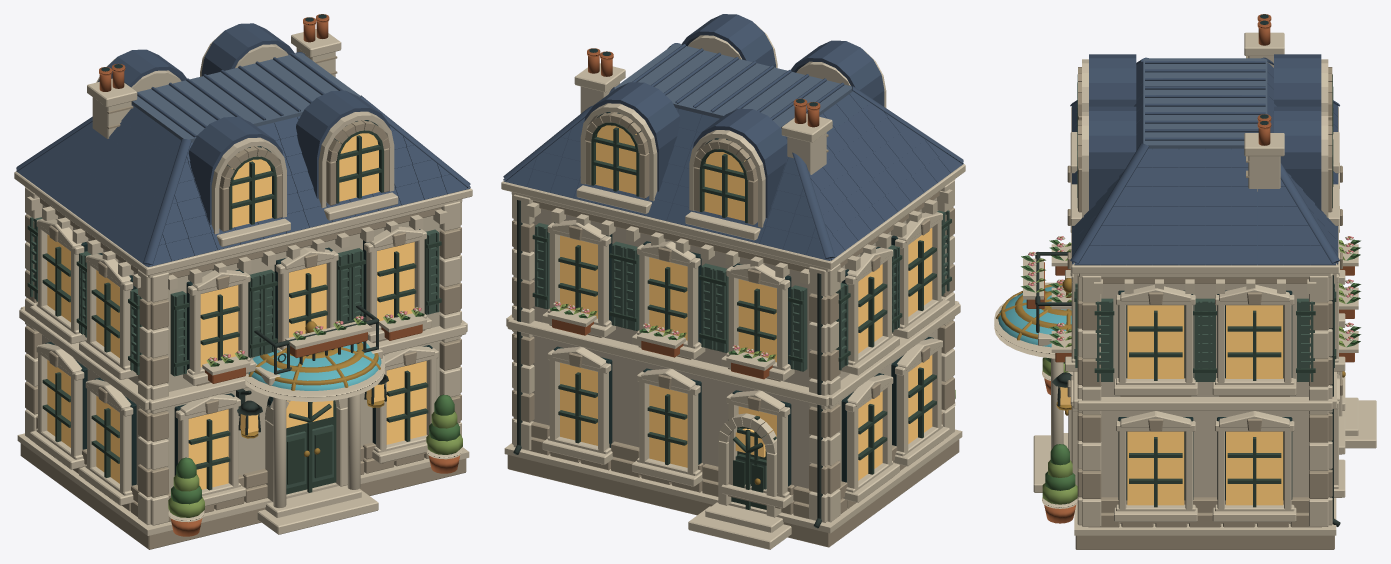
3 views of the same model, side by side, from view 1: azimuth 30°, elevation 25°; view 2: azimuth 150°, elevation 25°; view 3: azimuth 270°, elevation 25° (orthographic).
Visible parts, largest first — view 1: classic_hotel_2_geometry, classic_hotel_2_geometry ceramic; view 2: classic_hotel_2_geometry, classic_hotel_2_geometry ceramic; view 3: classic_hotel_2_geometry, classic_hotel_2_geometry ceramic.
Boxes of the visible parts, left/top/right/bottom form: classic_hotel_2_geometry: left=14, top=14, right=472, bottom=549; classic_hotel_2_geometry ceramic: left=16, top=23, right=470, bottom=266; classic_hotel_2_geometry: left=501, top=23, right=965, bottom=549; classic_hotel_2_geometry ceramic: left=503, top=14, right=963, bottom=260; classic_hotel_2_geometry: left=994, top=14, right=1376, bottom=549; classic_hotel_2_geometry ceramic: left=1070, top=54, right=1339, bottom=265.
Bounding box in the file's own units: 0.99 × 1.12 × 0.9664.
